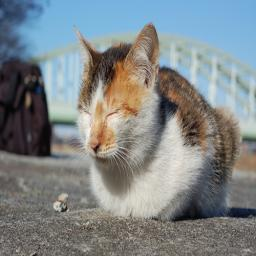catnose: (90, 139, 102, 153)
